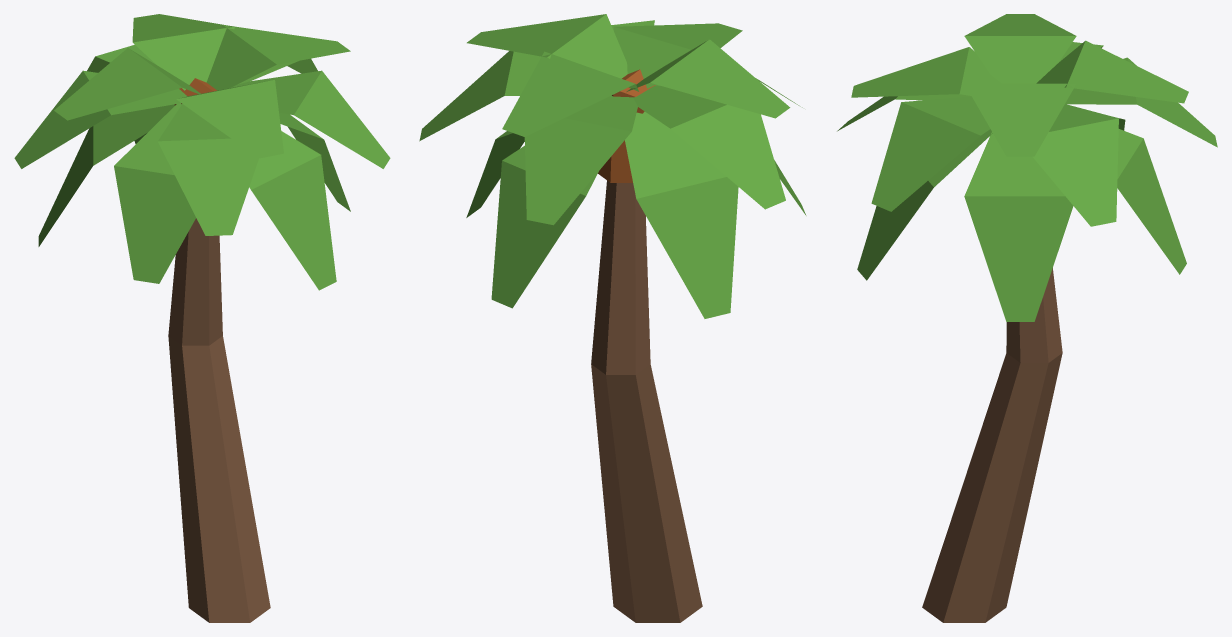
The model's file is PalmTree_01.fbx.
3 renders of one model, left to right at view 1: azimuth 30°, elevation 25°; view 2: azimuth 150°, elevation 25°; view 3: azimuth 270°, elevation 25°, orthographic. The views are drawn at different scales.
Parts seen in each view (by area): view 1: PalmTree_01; view 2: PalmTree_01; view 3: PalmTree_01.
Boxes of the visible parts, box(x1,y1,x2,y2) form: PalmTree_01: box(14, 14, 390, 622); PalmTree_01: box(419, 14, 806, 622); PalmTree_01: box(837, 14, 1217, 622).
Size of the model in its own units: 6.72 by 10.75 by 6.79.
